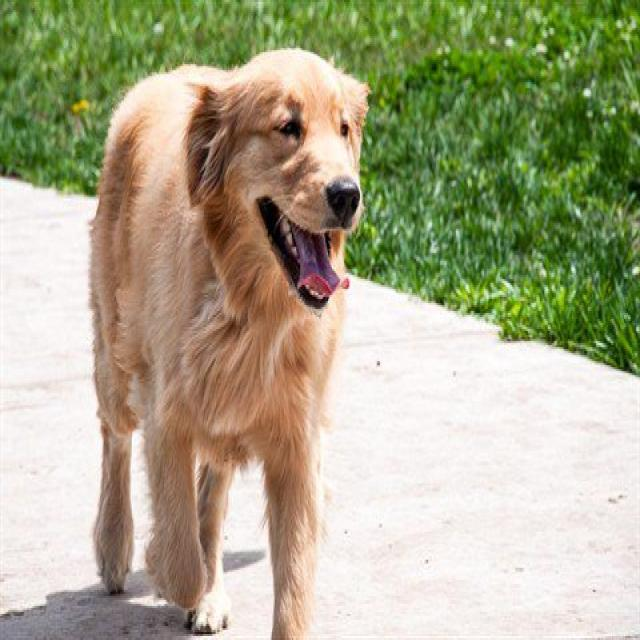Dog: (82, 47, 369, 640)
